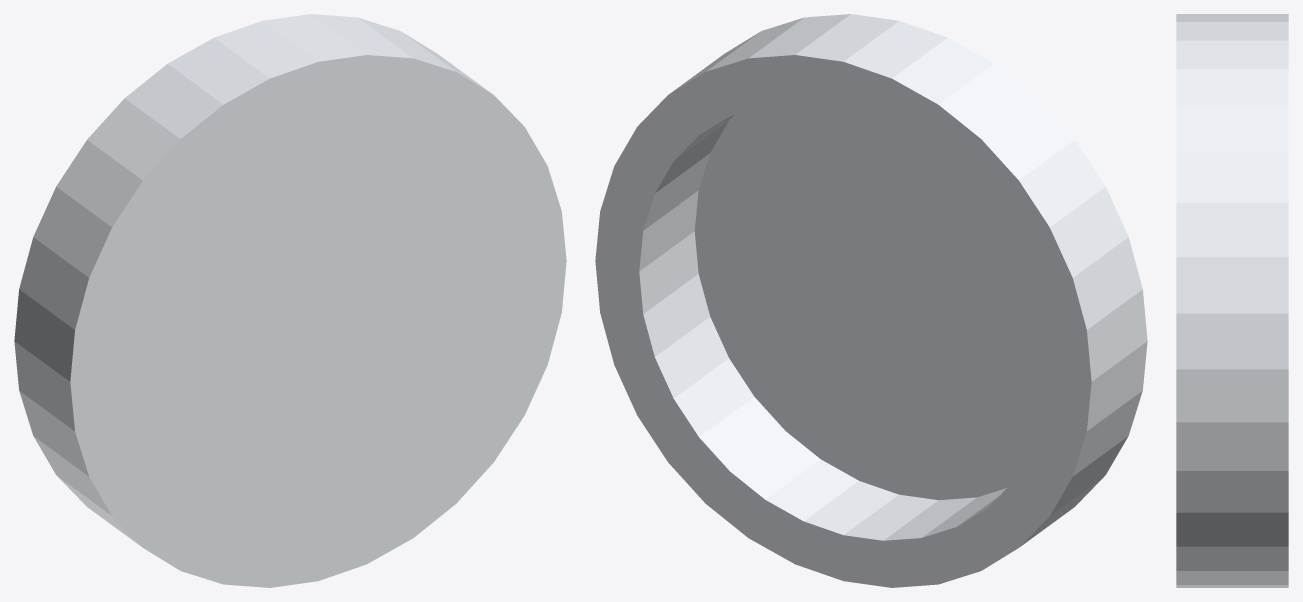
The model's file is fgr_fur_guitar_hole.fbx.
The picture shows the model from 3 angles, left to right: view 1: azimuth 30°, elevation 25°; view 2: azimuth 150°, elevation 25°; view 3: azimuth 270°, elevation 25°; orthographic projection.
Visible parts, largest first — view 1: fgr_fur_guitar_hole; view 2: fgr_fur_guitar_hole; view 3: fgr_fur_guitar_hole.
Boxes of the visible parts, x1,y1,x2,y2 form: fgr_fur_guitar_hole: [14, 14, 566, 587]; fgr_fur_guitar_hole: [595, 14, 1147, 587]; fgr_fur_guitar_hole: [1176, 14, 1288, 587].
Size of the model in its own units: 2004 by 2004 by 391.
Materials: 1 (1 with a texture image).
